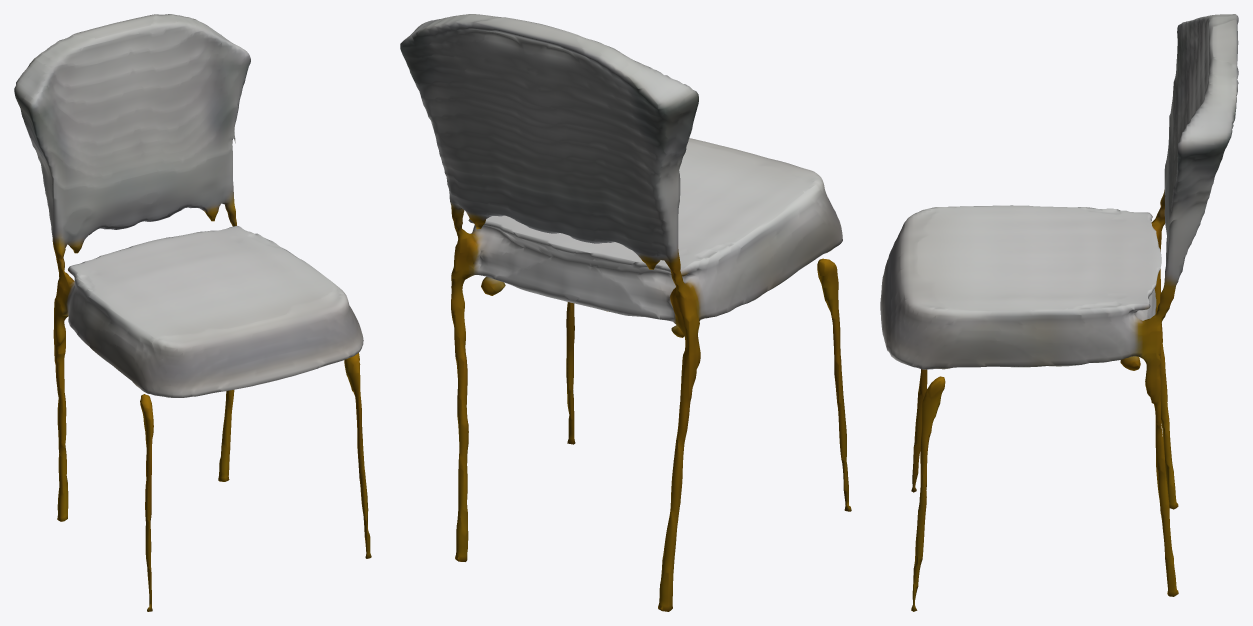
File: Geometric white wood chair with silver armrests, y.glb
3 renders of one model, left to right at view 1: azimuth 30°, elevation 25°; view 2: azimuth 150°, elevation 25°; view 3: azimuth 270°, elevation 25°, orthographic. The views are drawn at different scales.
Parts seen in each view (by area): view 1: Geometric white wood chair with silver armrests, y; view 2: Geometric white wood chair with silver armrests, y; view 3: Geometric white wood chair with silver armrests, y.
Part boxes in pixels (<box>): Geometric white wood chair with silver armrests, y: <box>14,14,371,611</box>; Geometric white wood chair with silver armrests, y: <box>400,14,851,611</box>; Geometric white wood chair with silver armrests, y: <box>880,14,1238,611</box>.
Size of the model in its own units: 1.02 by 1.98 by 1.26.
